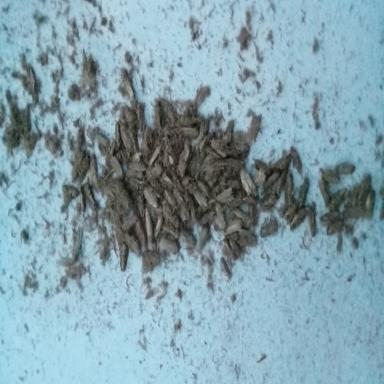pbw: (286, 206, 306, 235), (190, 118, 206, 154), (271, 156, 291, 184), (119, 66, 134, 101), (197, 175, 214, 203), (282, 197, 300, 223), (88, 154, 100, 192), (261, 217, 279, 242), (227, 173, 240, 207), (326, 185, 345, 208), (234, 204, 252, 228), (322, 220, 346, 238), (362, 188, 376, 218), (180, 228, 199, 250), (121, 122, 134, 153), (114, 185, 132, 207), (174, 193, 188, 221), (212, 158, 225, 188), (148, 137, 160, 169), (76, 152, 88, 184), (71, 142, 83, 174), (163, 184, 177, 211), (160, 95, 175, 120), (213, 134, 227, 160), (6, 93, 20, 119), (109, 153, 122, 181), (24, 62, 36, 92), (224, 216, 242, 236), (120, 208, 135, 232), (195, 84, 210, 108), (194, 226, 210, 248), (228, 234, 243, 257), (179, 148, 190, 179), (144, 211, 155, 242), (63, 181, 80, 201), (250, 112, 263, 138), (315, 180, 331, 201), (136, 220, 148, 248), (145, 187, 159, 211), (198, 132, 212, 156), (358, 173, 371, 198), (160, 236, 178, 254), (216, 186, 234, 204), (322, 166, 340, 184), (260, 191, 279, 208), (299, 176, 310, 205), (83, 179, 94, 208), (240, 166, 253, 190), (290, 143, 300, 174), (123, 176, 145, 190), (226, 158, 246, 173), (200, 210, 215, 230), (307, 202, 316, 235), (233, 138, 249, 156), (342, 206, 366, 218), (220, 255, 232, 279), (198, 158, 214, 176), (321, 210, 340, 225), (280, 191, 295, 210), (152, 214, 164, 237), (143, 229, 154, 254), (124, 232, 137, 253), (72, 228, 81, 258), (337, 160, 356, 174), (96, 130, 110, 149), (163, 201, 177, 220), (162, 222, 181, 236), (133, 192, 145, 214), (216, 205, 226, 231), (264, 170, 280, 186), (21, 104, 29, 136), (179, 122, 196, 137), (150, 171, 161, 194), (77, 187, 86, 215), (227, 114, 236, 142), (126, 159, 144, 173), (182, 112, 200, 126), (190, 195, 198, 226), (119, 244, 127, 271), (242, 232, 256, 247), (349, 181, 357, 207), (194, 188, 206, 205), (239, 195, 259, 205), (164, 173, 174, 193), (178, 180, 194, 192), (46, 136, 56, 154), (224, 242, 234, 260), (182, 146, 191, 164), (192, 156, 198, 178)
